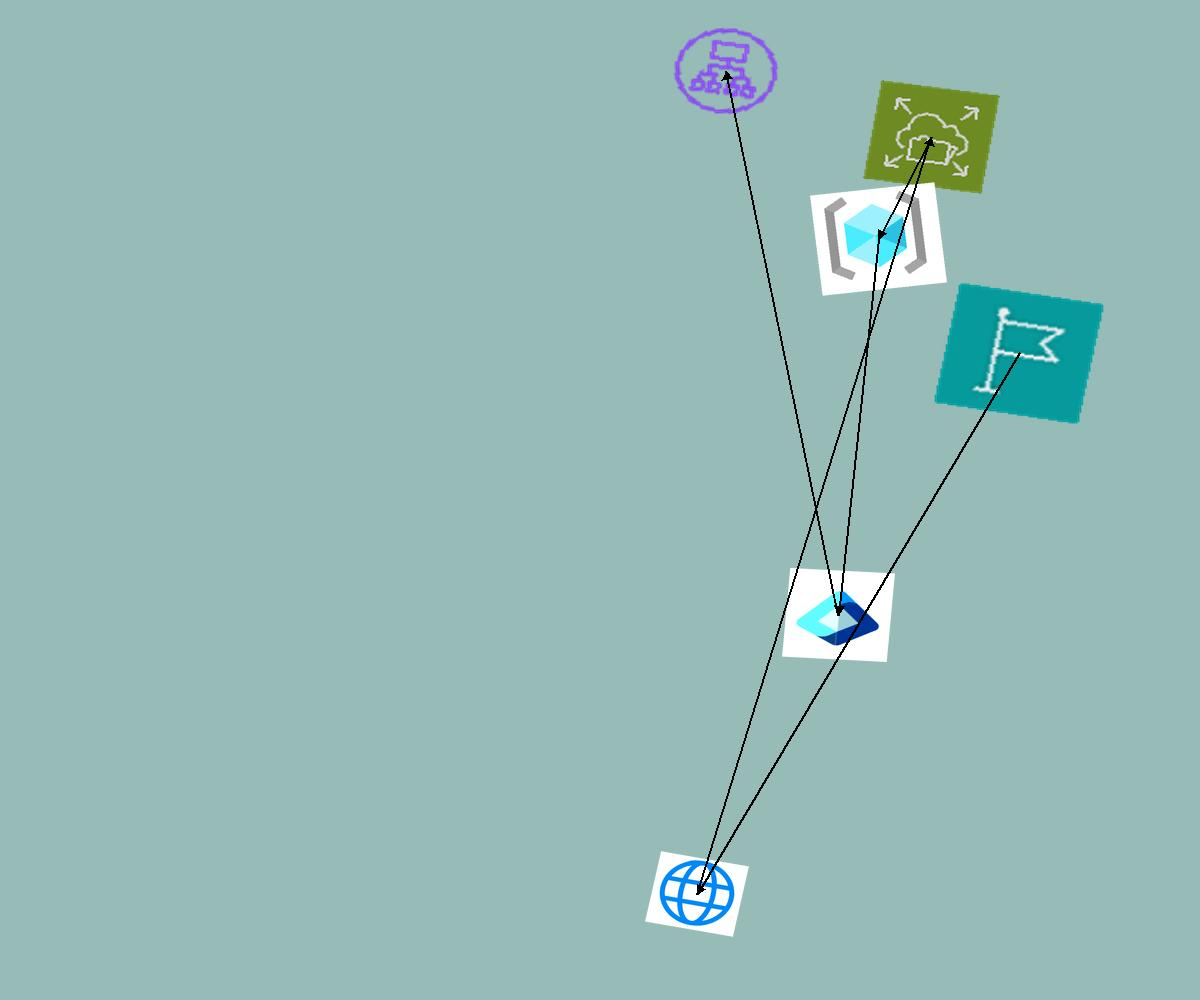AWS-EFS: (863, 80, 1000, 194)
AWS-Region: (933, 282, 1105, 425)
AWS-Res_Elastic-Load-Balancing_Application-Load-Balancer: (661, 17, 791, 125)
Azure_http: (645, 851, 749, 937)
Azure_microsoft_entra: (782, 568, 895, 662)
Azure_resource_group: (810, 182, 947, 296)
